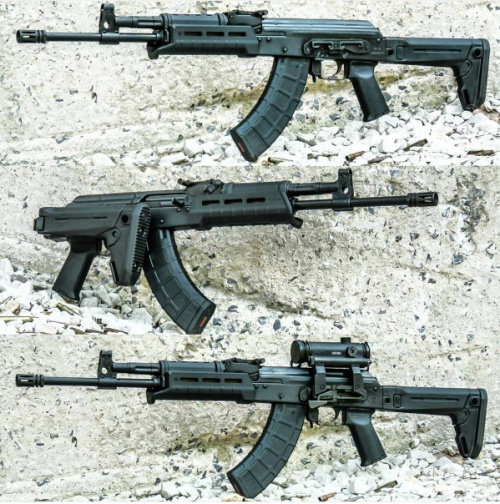ak47: (18, 3, 490, 165), (16, 335, 486, 495), (33, 168, 438, 335)
